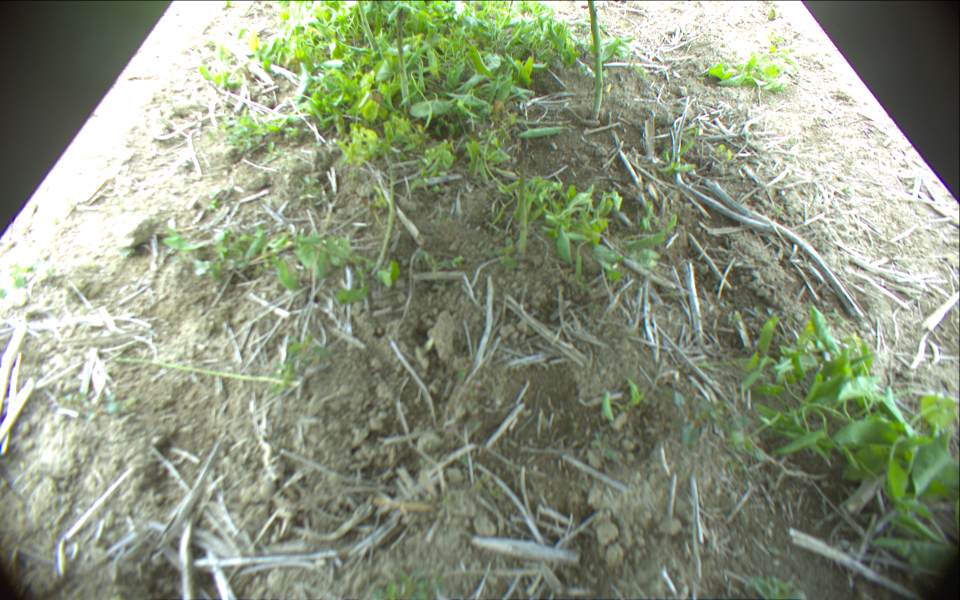aspa: (114, 356, 302, 387), (371, 151, 404, 276), (586, 1, 604, 120), (512, 134, 529, 255), (394, 3, 412, 111), (355, 1, 380, 59)
